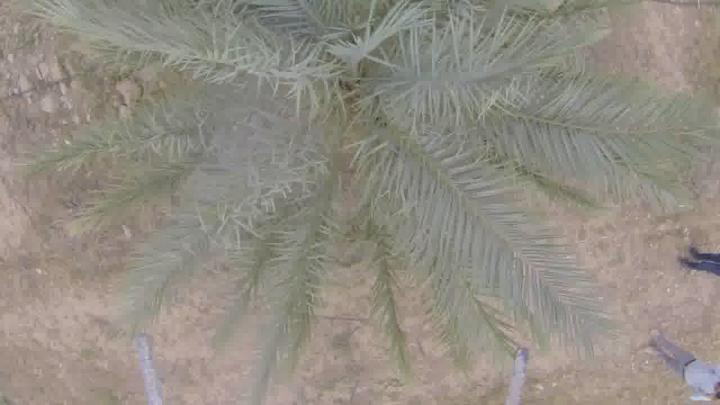Date-Palm-Crown: (174, 0, 534, 286)
